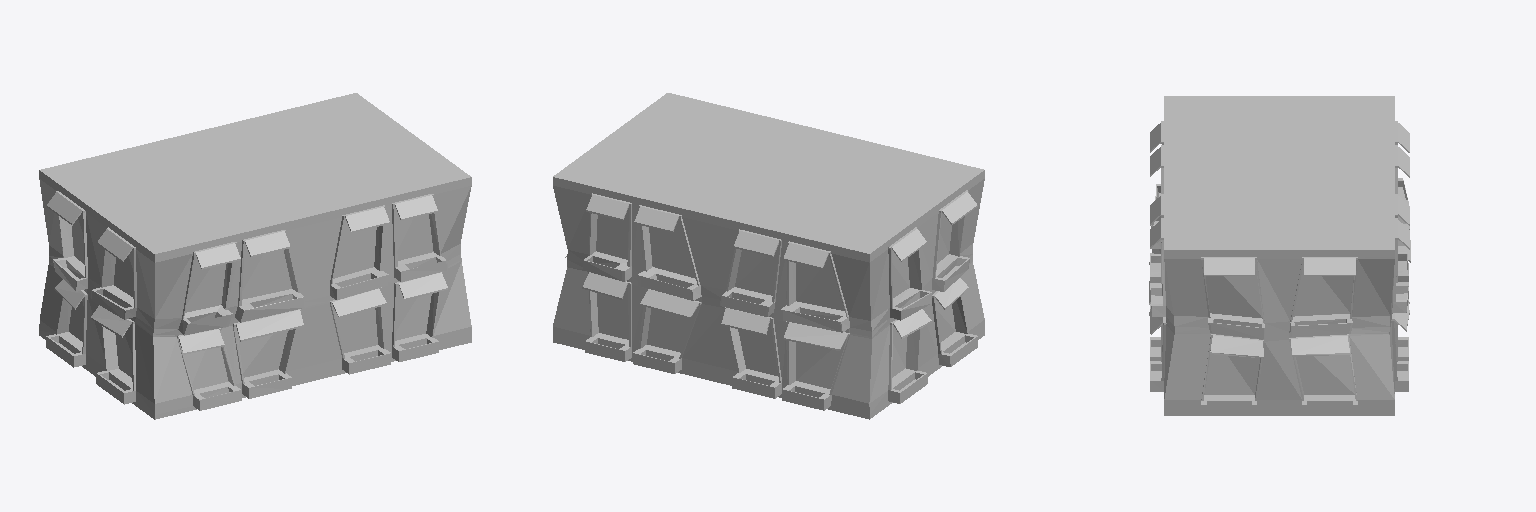
File: Buildingcurvy.obj
3 renders of one model, left to right at view 1: azimuth 30°, elevation 25°; view 2: azimuth 150°, elevation 25°; view 3: azimuth 270°, elevation 25°, orthographic.
Parts seen in each view (by area): view 1: building:pCube1; view 2: building:pCube1; view 3: building:pCube1.
Part boxes in pixels (x1,y1,x2,y2): building:pCube1: (39, 93, 471, 419); building:pCube1: (553, 93, 984, 419); building:pCube1: (1149, 96, 1410, 415).
Size of the model in its own units: 7.17 by 3.29 by 4.72.